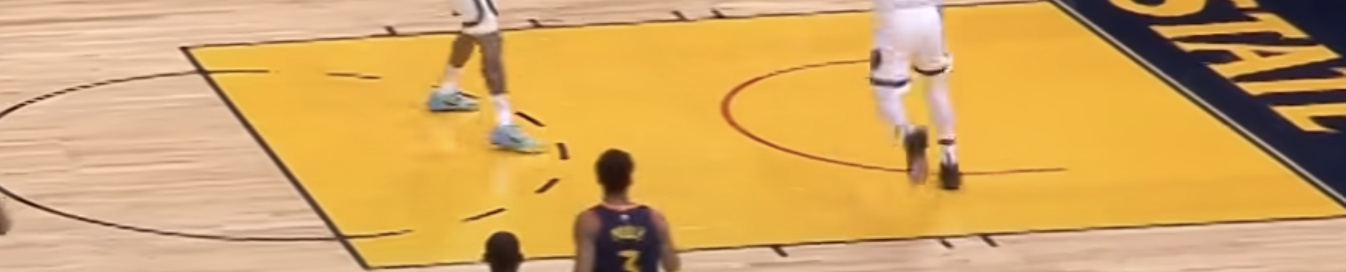endLine: (1056, 2, 1346, 206)
freeThrow: (184, 47, 371, 272)
lane: (372, 215, 1346, 269), (184, 1, 1039, 47)
